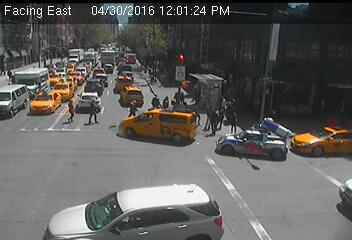neg: (213, 179, 239, 213), (271, 123, 293, 154), (257, 36, 279, 66), (14, 122, 36, 151), (297, 36, 316, 62), (19, 85, 34, 104), (234, 149, 249, 168), (171, 54, 185, 73), (139, 32, 153, 51), (101, 54, 114, 71), (39, 29, 51, 44), (18, 33, 29, 49), (30, 56, 41, 71), (2, 49, 13, 64), (166, 34, 177, 49), (107, 25, 117, 39)
pos: (83, 97, 106, 127), (204, 107, 225, 135), (63, 98, 83, 124), (222, 109, 242, 135), (157, 93, 176, 117), (125, 98, 141, 120), (145, 93, 159, 112), (176, 89, 190, 107), (3, 68, 15, 84)
